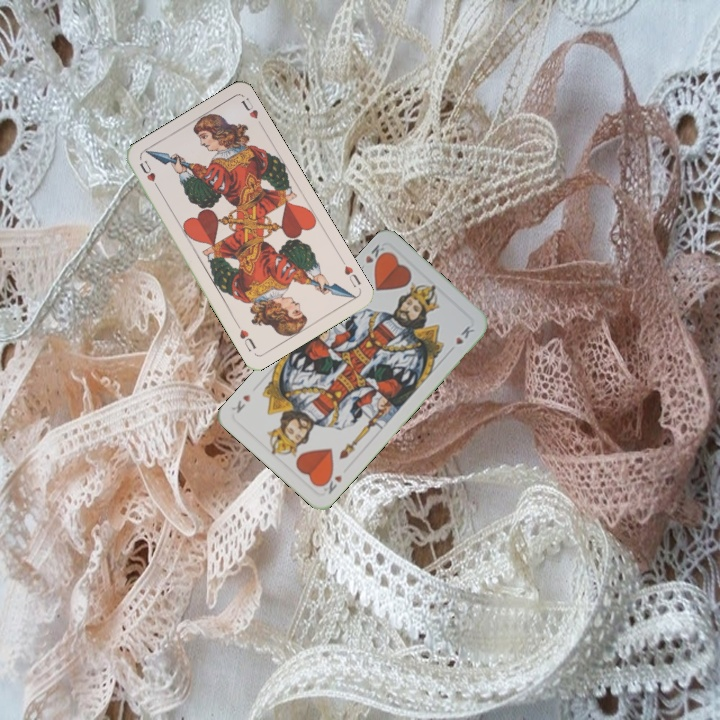HK: (354, 240, 391, 274), (317, 469, 345, 497)
HU: (136, 157, 162, 193), (340, 262, 364, 290)
